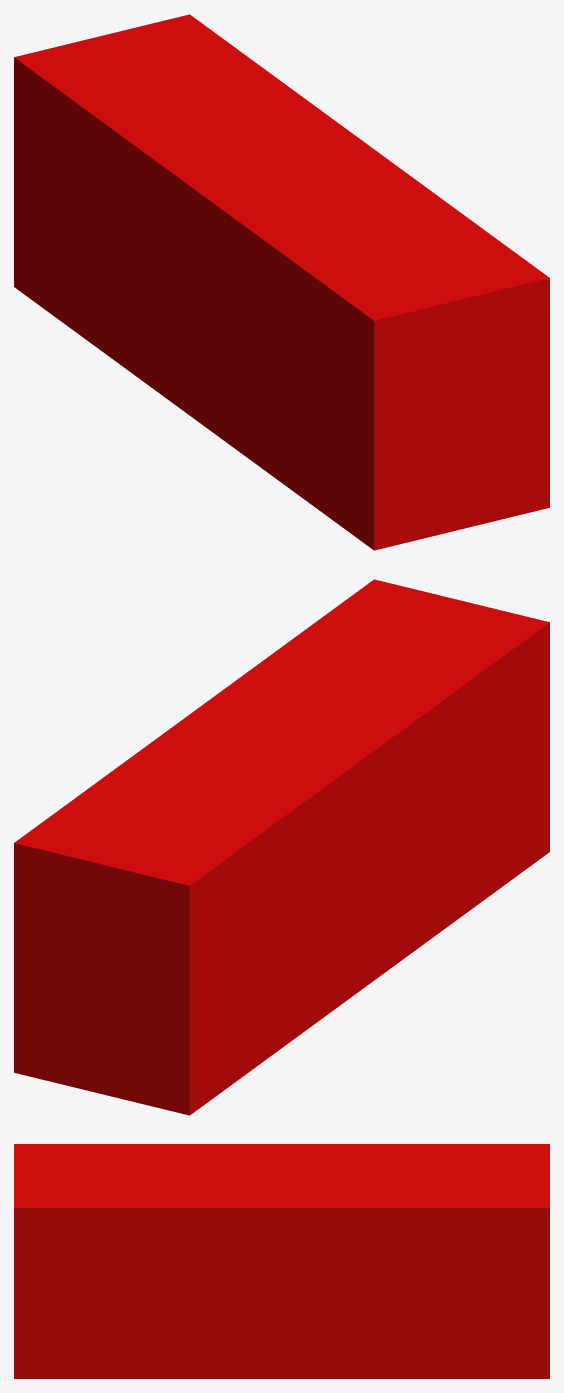
The model's file is crate_fractured.glb.
3 renders of one model, top to bottom at view 1: azimuth 30°, elevation 25°; view 2: azimuth 150°, elevation 25°; view 3: azimuth 270°, elevation 25°, orthographic. The views are drawn at different scales.
Parts seen in each view (by area): view 1: Cube_fracturepart11, Cube_fracturepart17, Cube_fracturepart4, Cube_fracturepart6, Cube_fracturepart1, Cube_fracturepart2, Cube_fracturepart15, Cube_fracturepart14, Cube_fracturepart20, Cube_fracturepart12, Cube_fracturepart7, Cube_fracturepart5 (+5 smaller); view 2: Cube_fracturepart2, Cube_fracturepart4, Cube_fracturepart6, Cube_fracturepart19, Cube_fracturepart1, Cube_fracturepart17, Cube_fracturepart15, Cube_fracturepart5, Cube_fracturepart14, Cube_fracturepart20, Cube_fracturepart7, Cube_fracturepart12 (+7 smaller); view 3: Cube_fracturepart17, Cube_fracturepart9, Cube_fracturepart20, Cube_fracturepart18, Cube_fracturepart16, Cube_fracturepart5, Cube_fracturepart19, Cube_fracturepart11, Cube_fracturepart6, Cube_fracturepart14, Cube_fracturepart2, Cube_fracturepart13 (+4 smaller).
Boxes of the visible parts, bbox=[...] form: Cube_fracturepart11: bbox=[306, 383, 549, 550]; Cube_fracturepart17: bbox=[350, 206, 549, 406]; Cube_fracturepart4: bbox=[252, 275, 416, 500]; Cube_fracturepart6: bbox=[221, 203, 413, 354]; Cube_fracturepart1: bbox=[106, 124, 215, 296]; Cube_fracturepart2: bbox=[14, 31, 131, 173]; Cube_fracturepart15: bbox=[14, 165, 135, 321]; Cube_fracturepart14: bbox=[183, 136, 359, 254]; Cube_fracturepart20: bbox=[147, 66, 356, 136]; Cube_fracturepart12: bbox=[137, 247, 237, 399]; Cube_fracturepart7: bbox=[14, 218, 126, 367]; Cube_fracturepart5: bbox=[119, 14, 260, 87]; Cube_fracturepart2: bbox=[66, 821, 277, 1005]; Cube_fracturepart4: bbox=[428, 640, 549, 940]; Cube_fracturepart6: bbox=[314, 650, 500, 834]; Cube_fracturepart19: bbox=[14, 929, 161, 1072]; Cube_fracturepart1: bbox=[251, 762, 383, 945]; Cube_fracturepart17: bbox=[277, 579, 549, 655]; Cube_fracturepart15: bbox=[149, 869, 311, 1045]; Cube_fracturepart5: bbox=[14, 791, 165, 936]; Cube_fracturepart14: bbox=[181, 718, 409, 791]; Cube_fracturepart20: bbox=[85, 720, 261, 806]; Cube_fracturepart7: bbox=[161, 985, 302, 1115]; Cube_fracturepart12: bbox=[313, 785, 413, 989]; Cube_fracturepart17: bbox=[14, 1144, 159, 1307]; Cube_fracturepart9: bbox=[126, 1185, 316, 1323]; Cube_fracturepart20: bbox=[300, 1155, 455, 1315]; Cube_fracturepart18: bbox=[96, 1293, 286, 1378]; Cube_fracturepart16: bbox=[283, 1283, 427, 1378]; Cube_fracturepart5: bbox=[438, 1172, 549, 1283]; Cube_fracturepart19: bbox=[425, 1272, 549, 1371]; Cube_fracturepart11: bbox=[14, 1304, 98, 1378]; Cube_fracturepart6: bbox=[87, 1144, 224, 1190]; Cube_fracturepart14: bbox=[222, 1144, 353, 1211]; Cube_fracturepart2: bbox=[419, 1144, 549, 1181]; Cube_fracturepart13: bbox=[196, 1154, 304, 1241].
Size of the model in its own units: 1.6 by 2 by 5.68.
